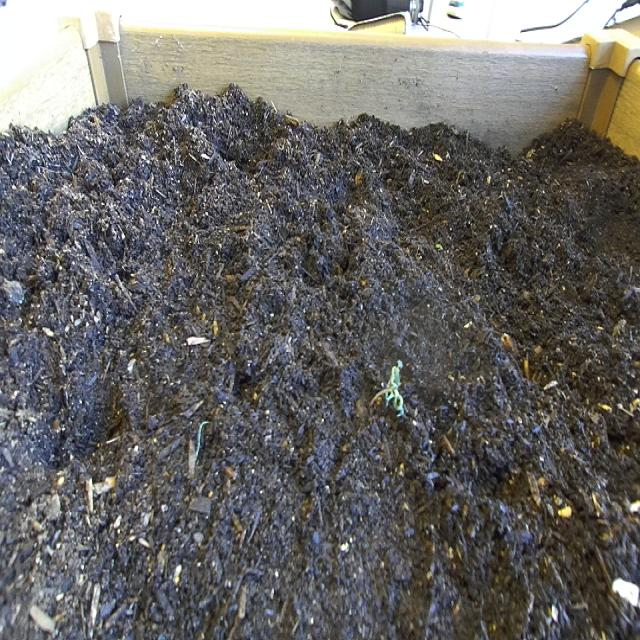Unhealthy: (363, 338, 419, 439)
